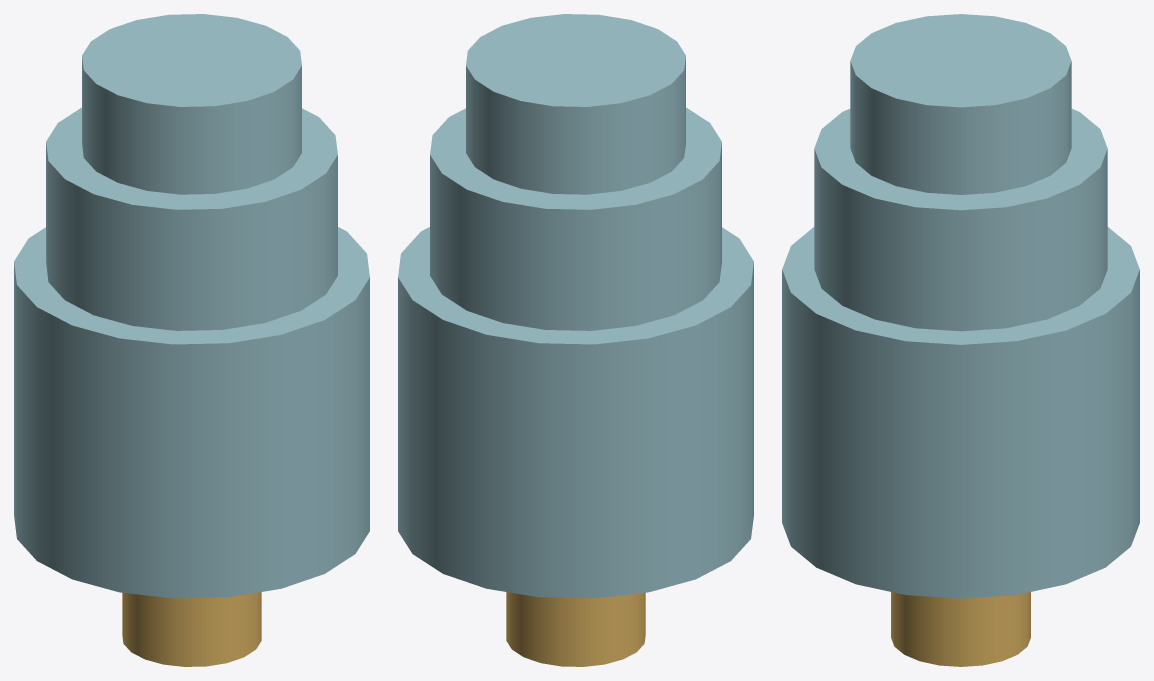
File: cilindros_azul.fbx
The picture shows the model from 3 angles, left to right: view 1: azimuth 30°, elevation 25°; view 2: azimuth 150°, elevation 25°; view 3: azimuth 270°, elevation 25°; orthographic projection.
Visible parts, largest first — view 1: pCylinder12, pCylinder11, pCylinder10, arvore31; view 2: pCylinder12, pCylinder11, pCylinder10, arvore31; view 3: pCylinder12, pCylinder11, pCylinder10, arvore31.
Part boxes in pixels (x1,y1,x2,y2): pCylinder12: [14, 227, 369, 598]; pCylinder11: [46, 107, 337, 330]; pCylinder10: [82, 14, 301, 194]; arvore31: [122, 592, 261, 666]; pCylinder12: [398, 227, 753, 598]; pCylinder11: [430, 107, 721, 330]; pCylinder10: [466, 14, 685, 194]; arvore31: [506, 592, 645, 666]; pCylinder12: [782, 227, 1139, 598]; pCylinder11: [814, 109, 1107, 331]; pCylinder10: [850, 14, 1071, 194]; arvore31: [891, 592, 1030, 666].
Bounding box in the file's own units: 1.72 × 3.06 × 1.72.
